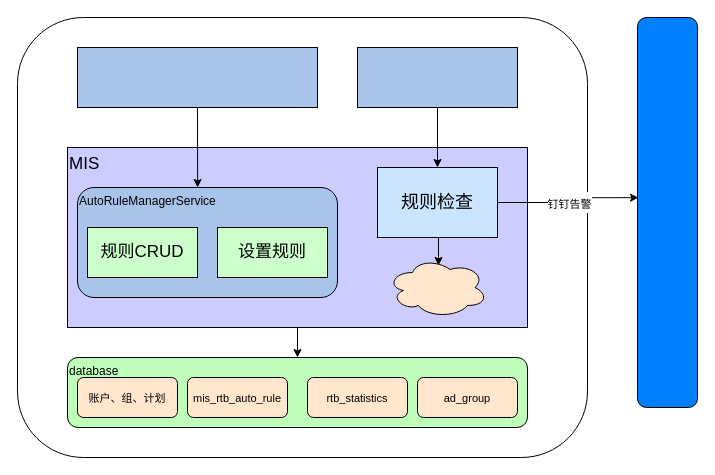
This 715x475 diagram has some shape labels left out. Here are the shapes that lost their labels. From the top down, the centre of each, then its label:
At point (197, 77): "RTB管理后台".
At point (437, 77): "定时任务JOB".
At point (667, 212): "钉钉群".
At point (437, 287): "规则引擎".
